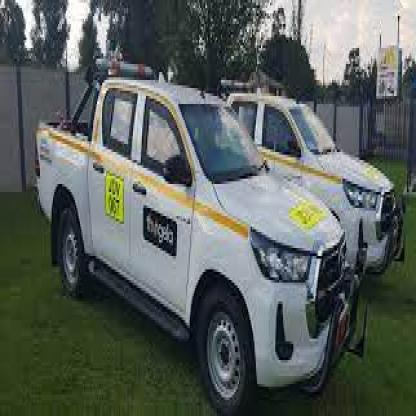bull_dozer/loader/grader: (28, 158, 332, 334)
